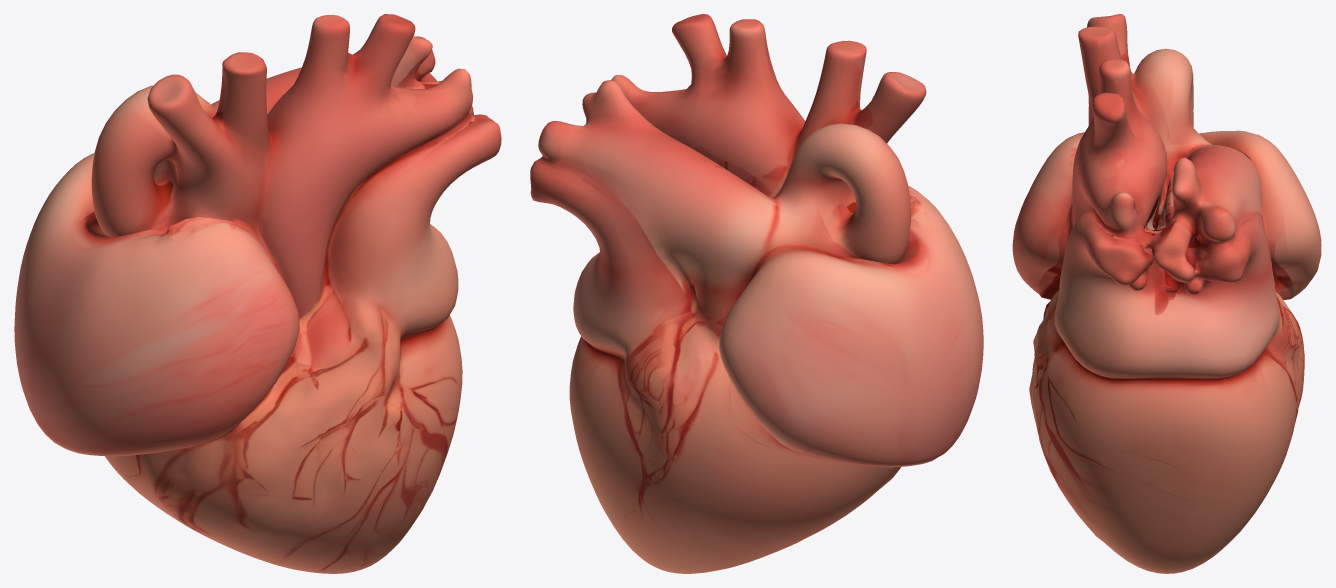
File: updated_ventricula.obj
3 renders of one model, left to right at view 1: azimuth 30°, elevation 25°; view 2: azimuth 150°, elevation 25°; view 3: azimuth 270°, elevation 25°, orthographic. The views are drawn at different scales.
Parts seen in each view (by area): view 1: remeshed; view 2: remeshed; view 3: remeshed.
Boxes of the visible parts, left/top/right/bottom form: remeshed: left=14, top=14, right=501, bottom=573; remeshed: left=530, top=14, right=983, bottom=573; remeshed: left=1012, top=14, right=1321, bottom=573.
Bounding box in the file's own units: 1.21 × 1.51 × 0.8631.
1 material, 1 textured.
